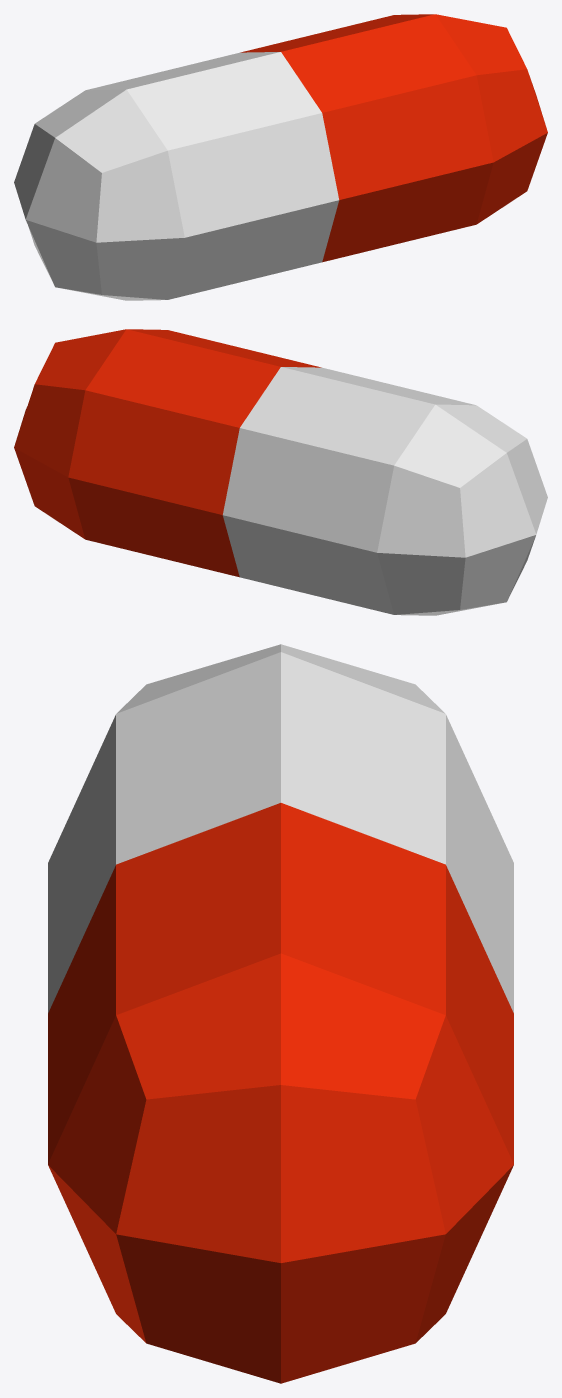
Rendered from Pill.fbx.
3 renders of one model, top to bottom at view 1: azimuth 30°, elevation 25°; view 2: azimuth 150°, elevation 25°; view 3: azimuth 270°, elevation 25°, orthographic. The views are drawn at different scales.
Visible parts, largest first — view 1: Roundcube; view 2: Roundcube; view 3: Roundcube.
Part boxes in pixels (box(x1,y1,x2,y2)): Roundcube: box(14, 14, 547, 300); Roundcube: box(14, 329, 547, 615); Roundcube: box(48, 644, 513, 1383).
Bounding box in the file's own units: 85.06 × 33.62 × 33.62.
